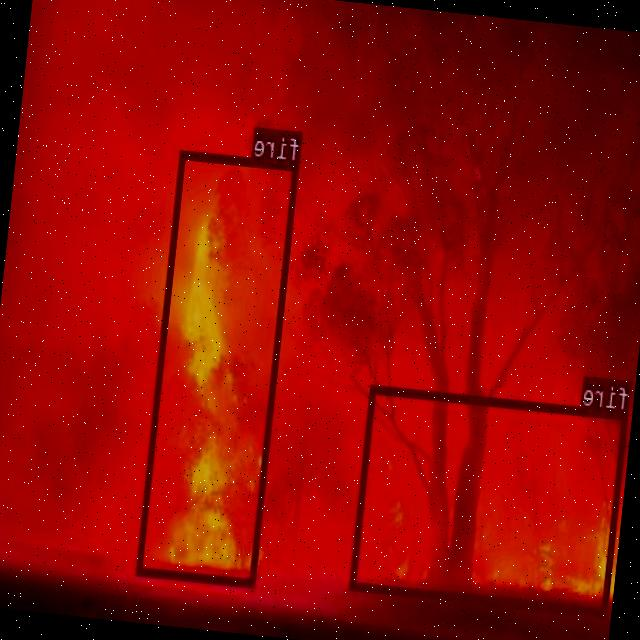fire: (136, 148, 300, 585), (351, 383, 628, 615)
